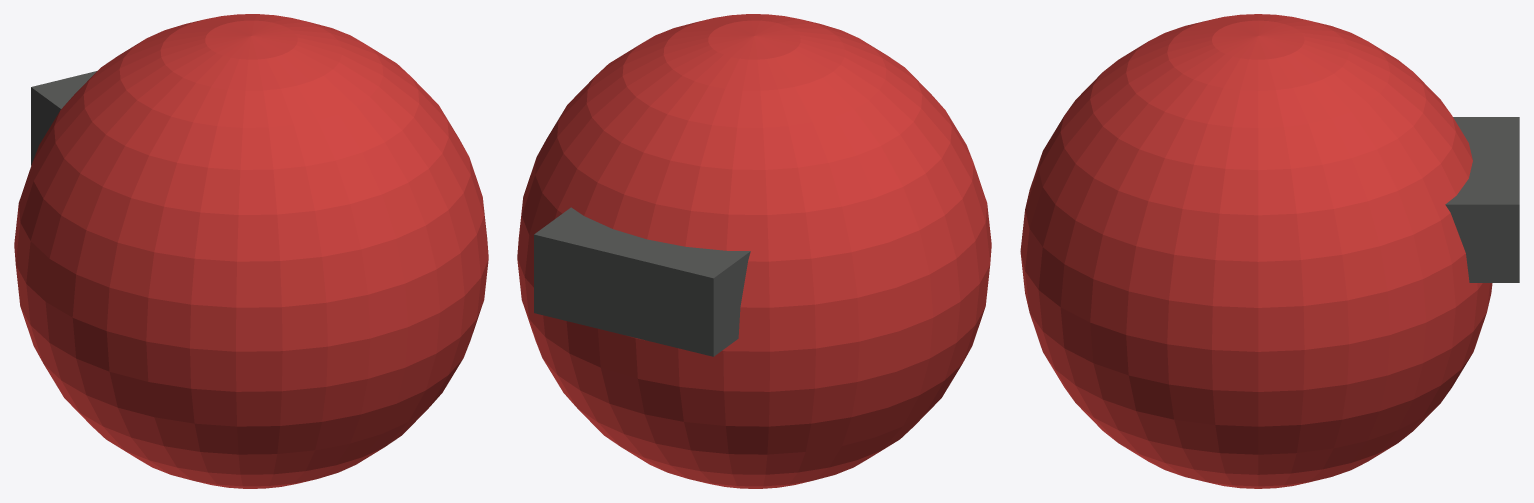
Rendered from enemy.glb.
3 views of the same model, side by side, from view 1: azimuth 30°, elevation 25°; view 2: azimuth 150°, elevation 25°; view 3: azimuth 270°, elevation 25° (orthographic).
Parts seen in each view (by area): view 1: Sphere; view 2: Sphere; view 3: Sphere.
Part boxes in pixels (<box>): Sphere: <box>14,14,488,488</box>; Sphere: <box>517,14,991,488</box>; Sphere: <box>1020,14,1519,488</box>.
Bounding box in the file's own units: 1 × 1 × 1.05.
1 material, 1 textured.
